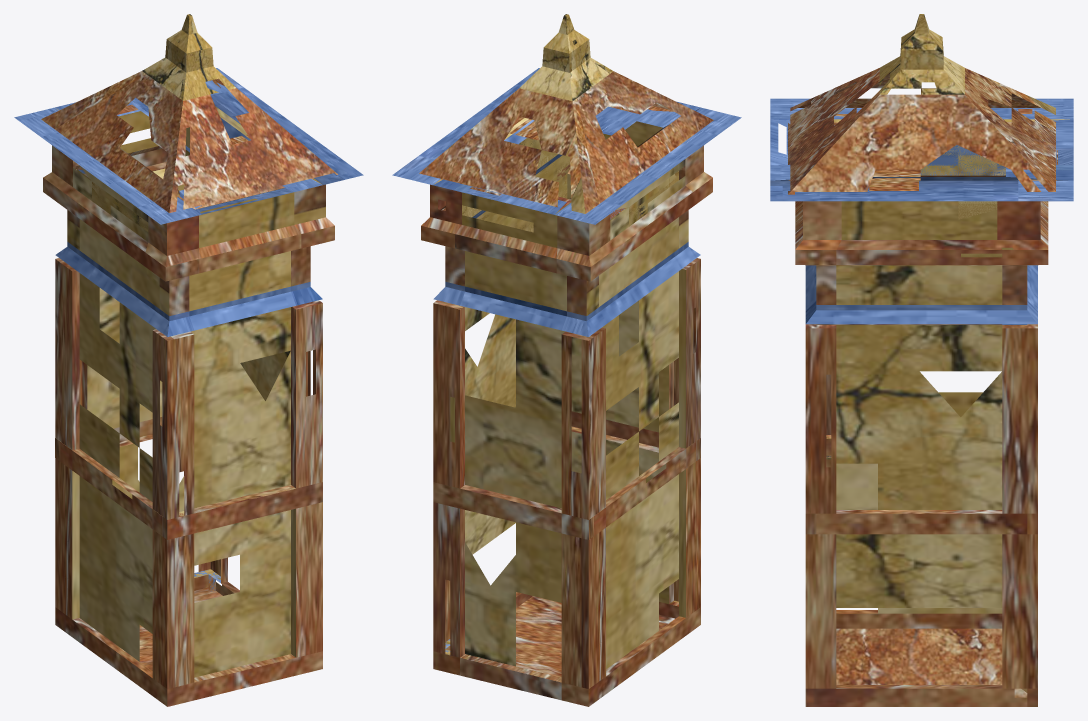
The model's file is Yamato_semidemolished_wall_tower.fbx.
3 views of the same model, side by side, from view 1: azimuth 30°, elevation 25°; view 2: azimuth 150°, elevation 25°; view 3: azimuth 270°, elevation 25° (orthographic). The views are drawn at different scales.
Parts seen in each view (by area): view 1: Cube, Cube.001; view 2: Cube, Cube.001; view 3: Cube, Cube.001.
Part boxes in pixels (x1,y1,x2,y2): Cube: (14,68,363,706); Cube.001: (41,14,337,212); Cube: (392,68,741,706); Cube.001: (419,14,713,213); Cube: (770,98,1073,706); Cube.001: (788,14,1057,194).
Bounding box in the file's own units: 288 × 854 × 359.
2 materials, 2 textured.
